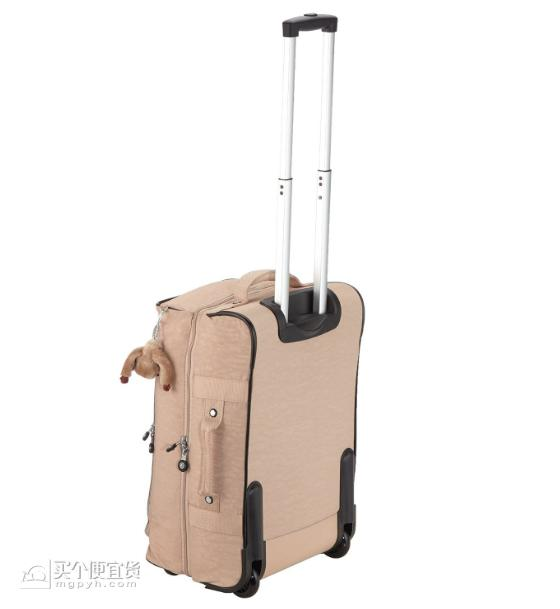luggage: (144, 11, 366, 601)
